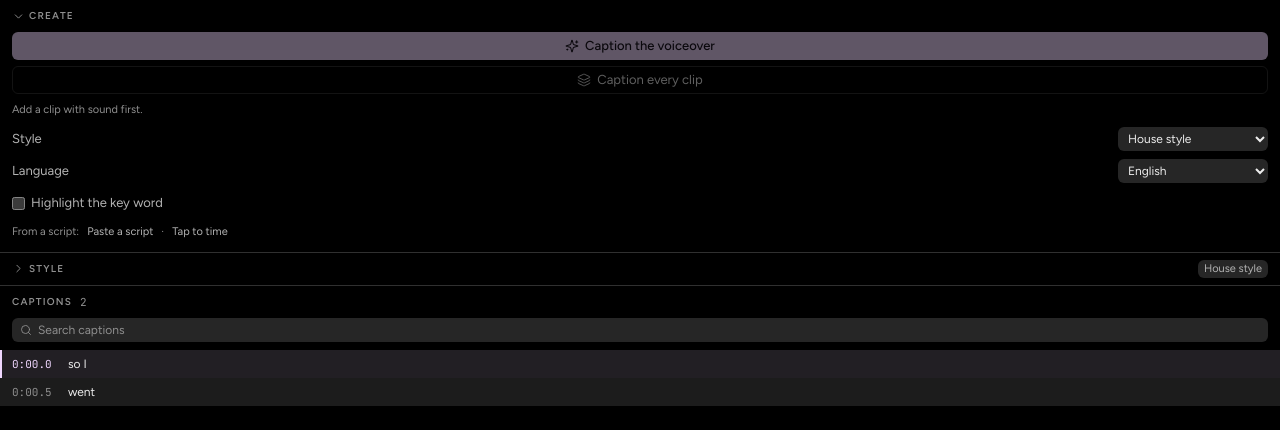
Scenario: Ctrl+S in a caption row › keeps the row he is typing in on screen when his words no longer match the search
Type "went" into the search field with test id "captions-search" at (649, 330), box [38,318,1260,342]
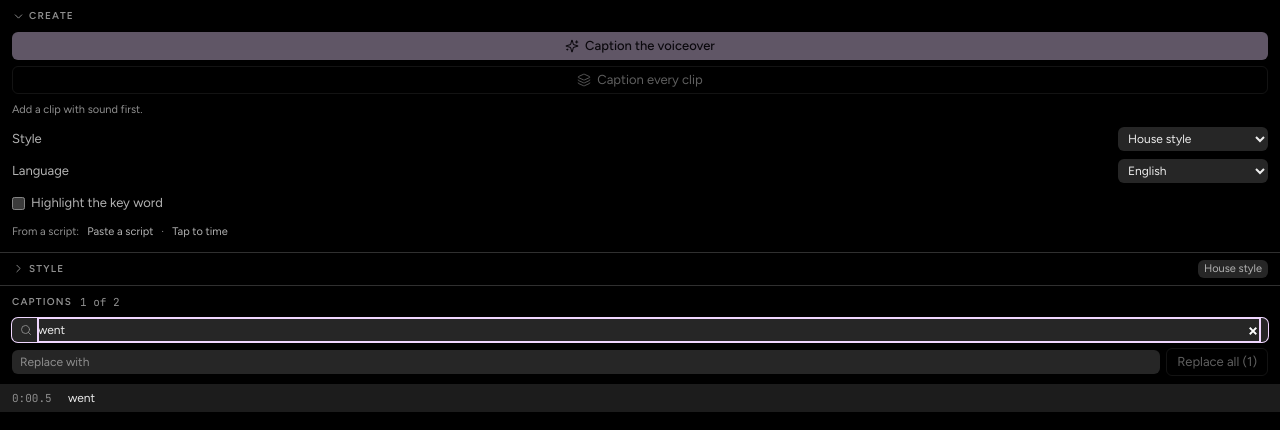
Replace the text in the field with test id "caption-row-text" with "so i left" at (667, 398), box [62,386,1272,410]
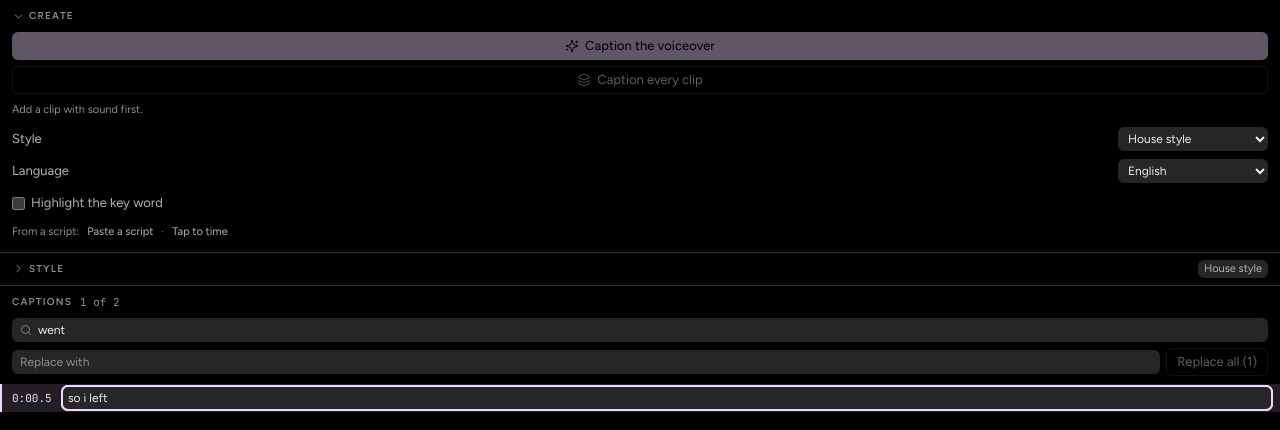
Type keys "{Control>}s{/Control}"
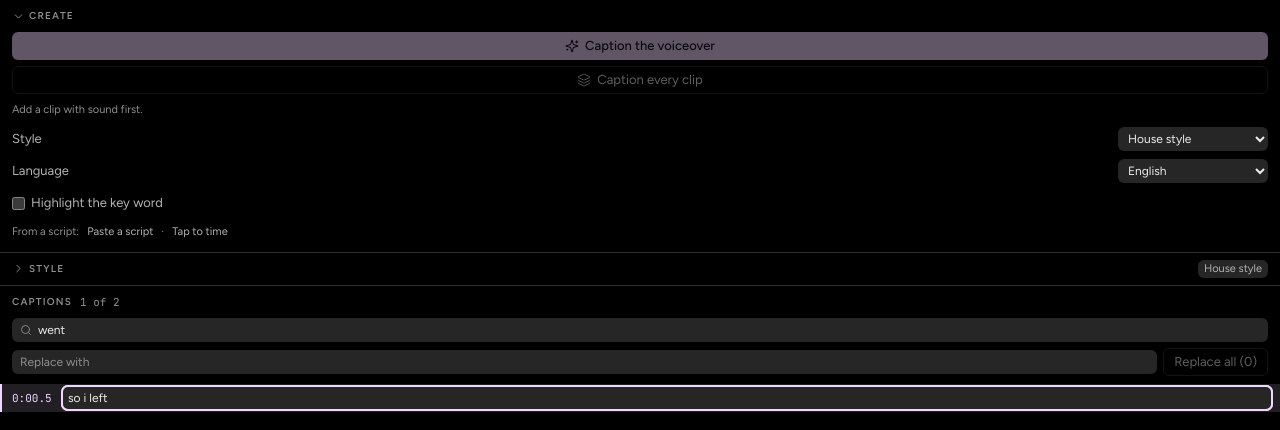
// Once he leaves it, the search hides it like any other caption that does not match.
Press Tab
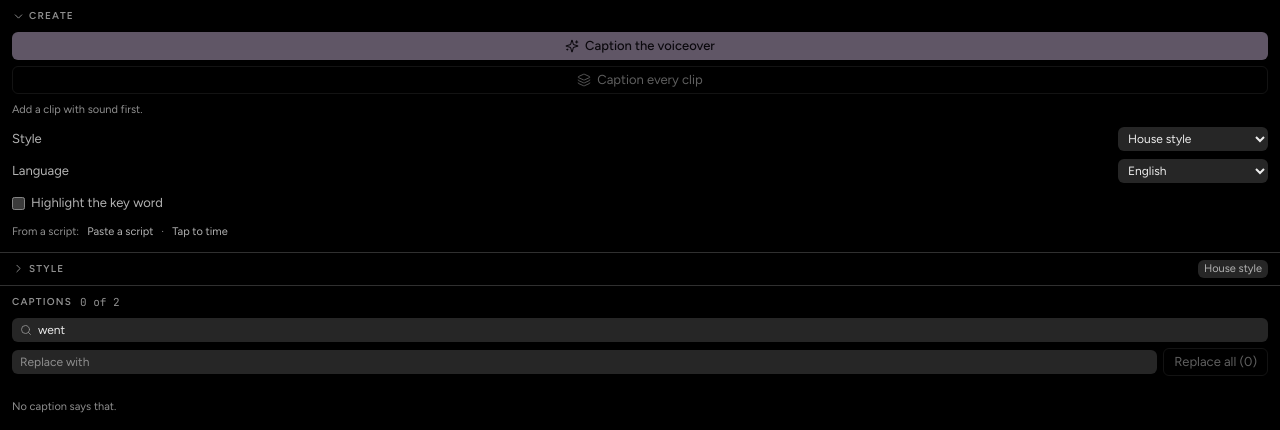
expect no fields with test id "caption-row-text" are shown: met
